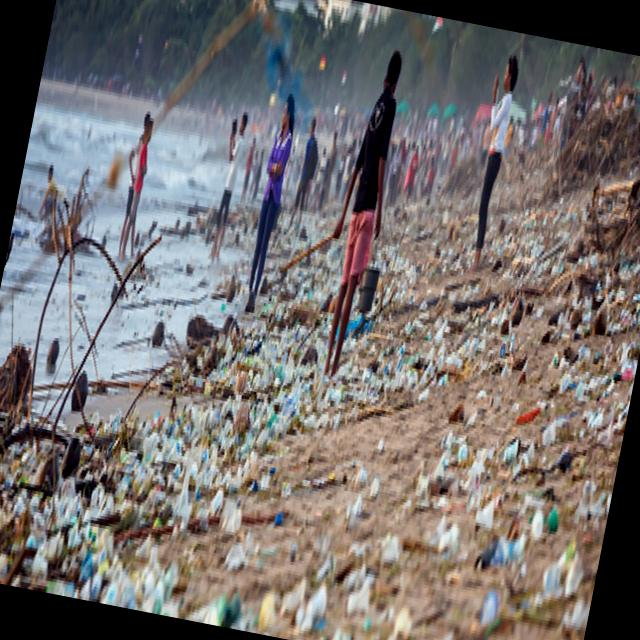garbage: (0, 219, 340, 636), (307, 236, 640, 640)
